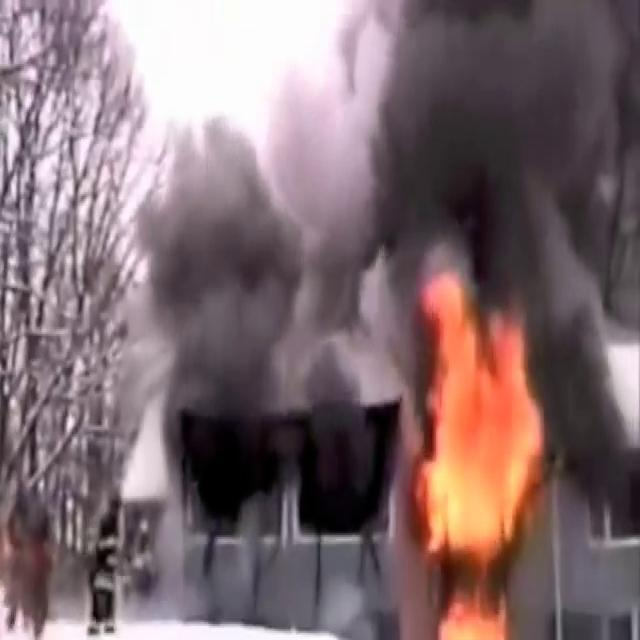Fire: (412, 229, 548, 543), (428, 591, 506, 640)
Smoke: (132, 87, 434, 460), (370, 0, 640, 307)
